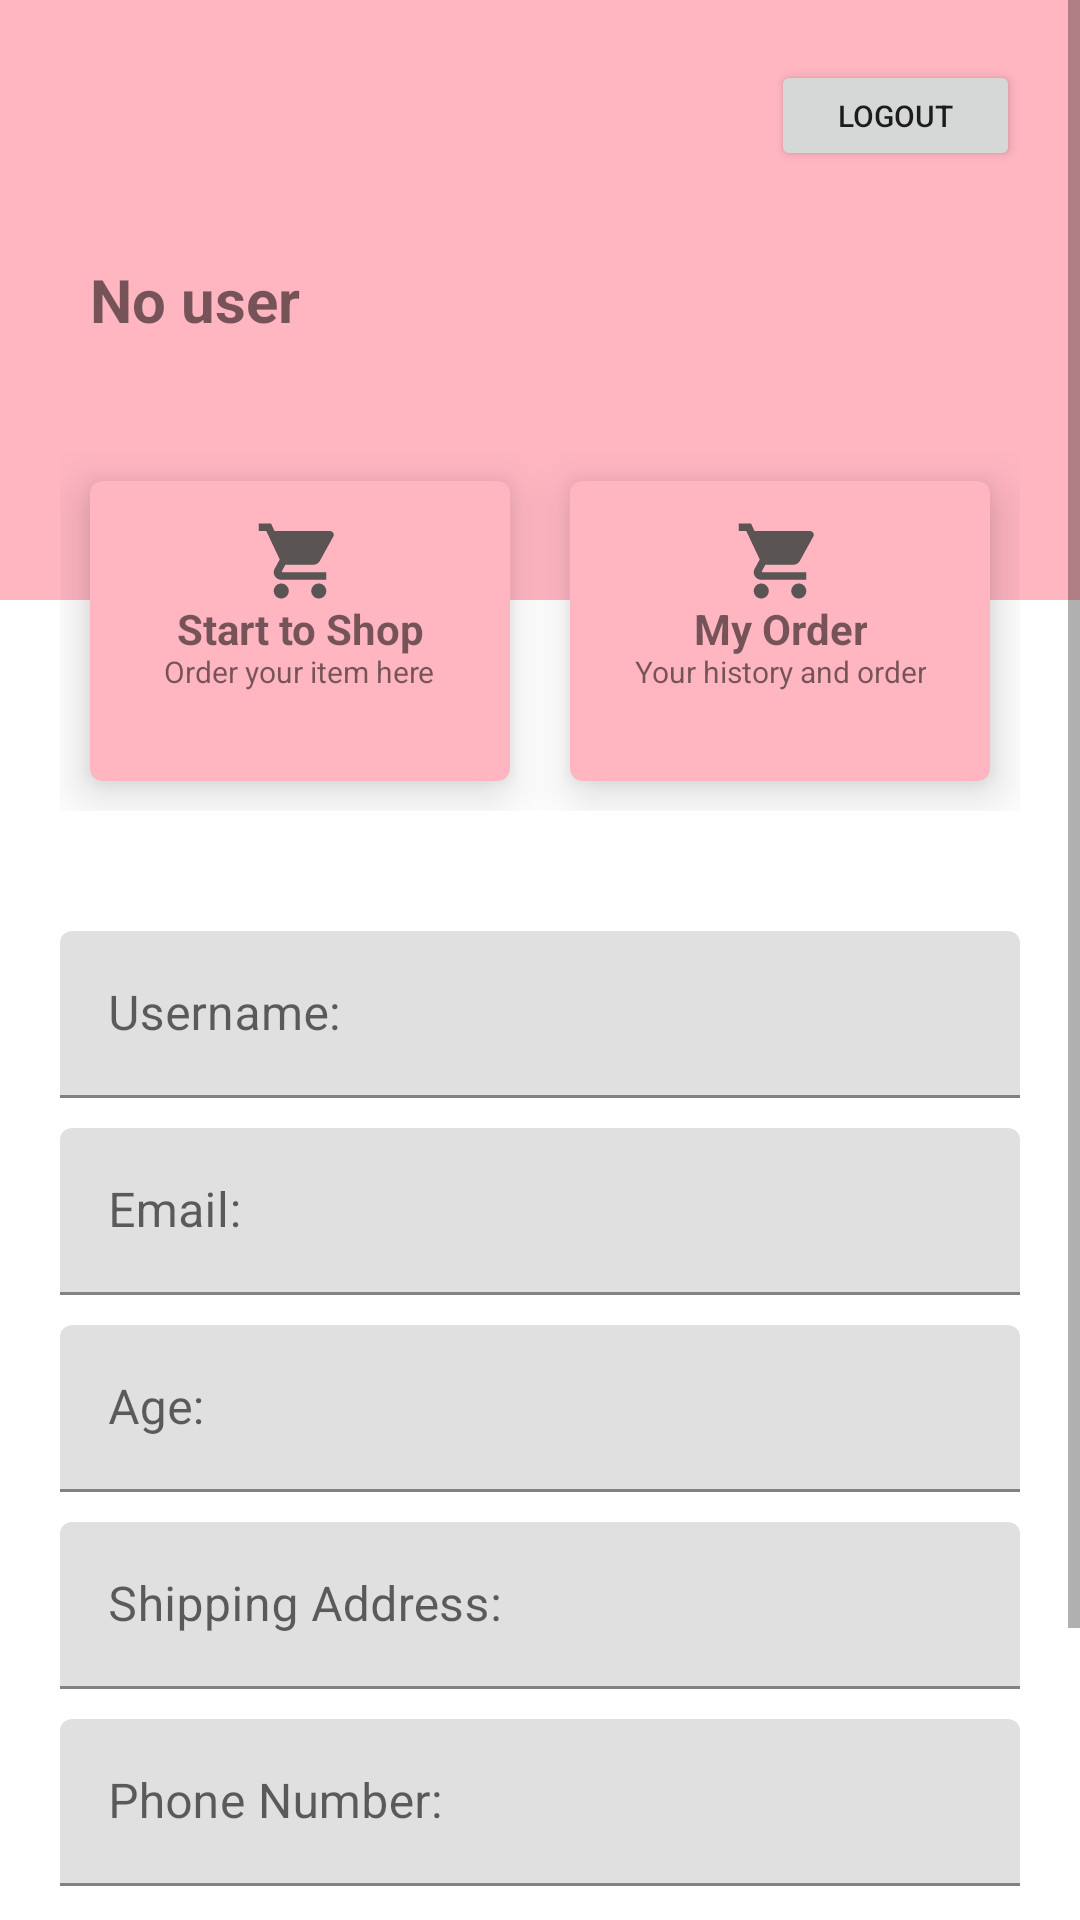

Where to tap for icons on this 1080×1920 app screen, as (x=x, y=y):
shopping cart: (x=296, y=561), (x=776, y=561)
